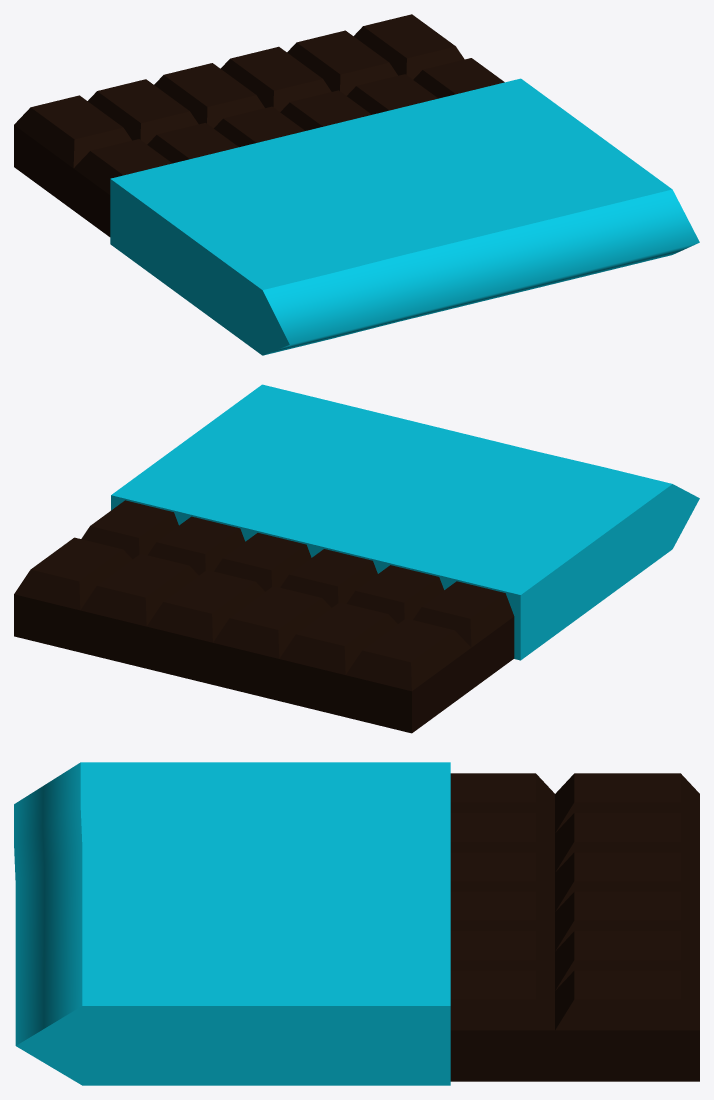
Rendered from schoko.FBX.
The picture shows the model from 3 angles, top to bottom: view 1: azimuth 30°, elevation 25°; view 2: azimuth 150°, elevation 25°; view 3: azimuth 270°, elevation 25°; orthographic projection. The views are drawn at different scales.
Visible parts, largest first — view 1: Box002, Box001; view 2: Box002, Box001; view 3: Box002, Box001.
Boxes of the visible parts, x1,y1,x2,y2 form: Box002: [110, 78, 699, 355]; Box001: [14, 14, 504, 236]; Box002: [111, 384, 699, 660]; Box001: [14, 500, 514, 733]; Box002: [14, 762, 450, 1085]; Box001: [450, 773, 699, 1081].
Size of the model in its own units: 20.34 by 3.1 by 24.22.
